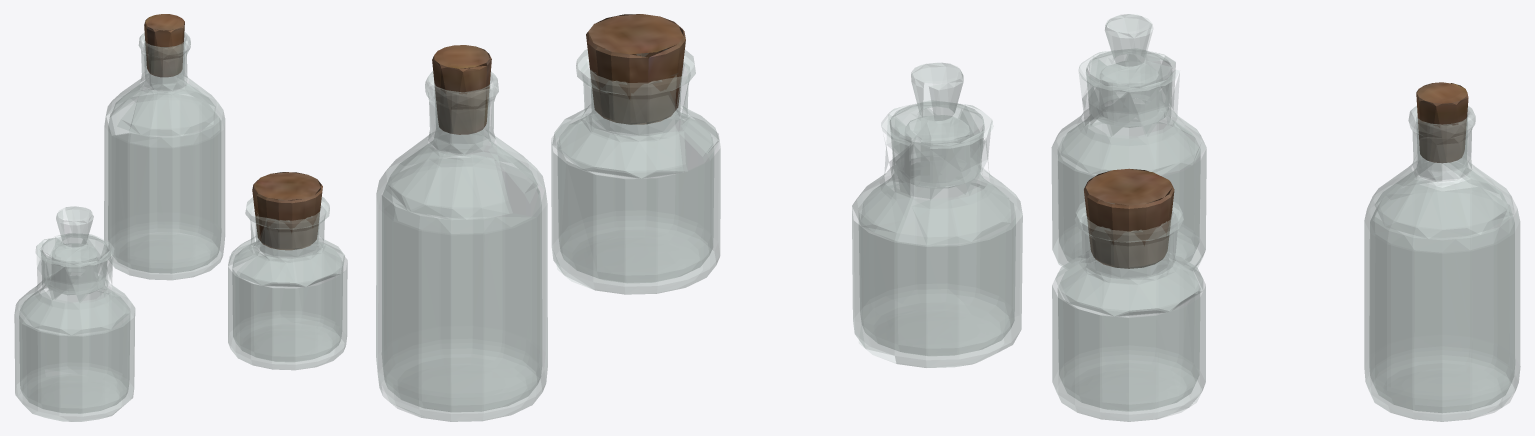
The model's file is ReagentBottles.obj.
3 renders of one model, left to right at view 1: azimuth 30°, elevation 25°; view 2: azimuth 150°, elevation 25°; view 3: azimuth 270°, elevation 25°, orthographic. The views are drawn at different scales.
Parts seen in each view (by area): view 1: chemistry_set_bottle_clear_d, chemistry_set_bottle_clear_a, chemistry_set_bottle_clear_b, chemistry_set_bottle_clear_b_cork, chemistry_set_bottle_clear_lid, chemistry_set_bottle_clear_d_cork; view 2: chemistry_set_bottle_clear_d, chemistry_set_bottle_clear_a, chemistry_set_bottle_clear_b, chemistry_set_bottle_clear_b_cork, chemistry_set_bottle_clear_lid, chemistry_set_bottle_clear_d_cork; view 3: chemistry_set_bottle_clear_d, chemistry_set_bottle_clear_b, chemistry_set_bottle_clear_a, chemistry_set_bottle_clear_b_cork, chemistry_set_bottle_clear_lid, chemistry_set_bottle_clear_d_cork.
Boxes of the visible parts, bbox=[...] form: chemistry_set_bottle_clear_d: bbox=[104, 32, 225, 280]; chemistry_set_bottle_clear_a: bbox=[14, 233, 135, 421]; chemistry_set_bottle_clear_b: bbox=[228, 197, 347, 370]; chemistry_set_bottle_clear_b_cork: bbox=[252, 172, 322, 250]; chemistry_set_bottle_clear_lid: bbox=[41, 206, 108, 295]; chemistry_set_bottle_clear_d_cork: bbox=[144, 14, 184, 77]; chemistry_set_bottle_clear_d: bbox=[376, 71, 547, 421]; chemistry_set_bottle_clear_a: bbox=[852, 100, 1022, 367]; chemistry_set_bottle_clear_b: bbox=[551, 49, 720, 294]; chemistry_set_bottle_clear_b_cork: bbox=[586, 14, 685, 124]; chemistry_set_bottle_clear_lid: bbox=[889, 63, 984, 188]; chemistry_set_bottle_clear_d_cork: bbox=[432, 45, 491, 134]; chemistry_set_bottle_clear_d: bbox=[1364, 106, 1520, 421]; chemistry_set_bottle_clear_b: bbox=[1052, 201, 1205, 421]; chemistry_set_bottle_clear_a: bbox=[1051, 48, 1206, 270]; chemistry_set_bottle_clear_b_cork: bbox=[1084, 168, 1174, 268]; chemistry_set_bottle_clear_lid: bbox=[1086, 14, 1172, 127]; chemistry_set_bottle_clear_d_cork: bbox=[1416, 82, 1468, 163].
Size of the model in its own units: 0.1498 by 0.1069 by 0.1498.
2 materials, 1 textured.
